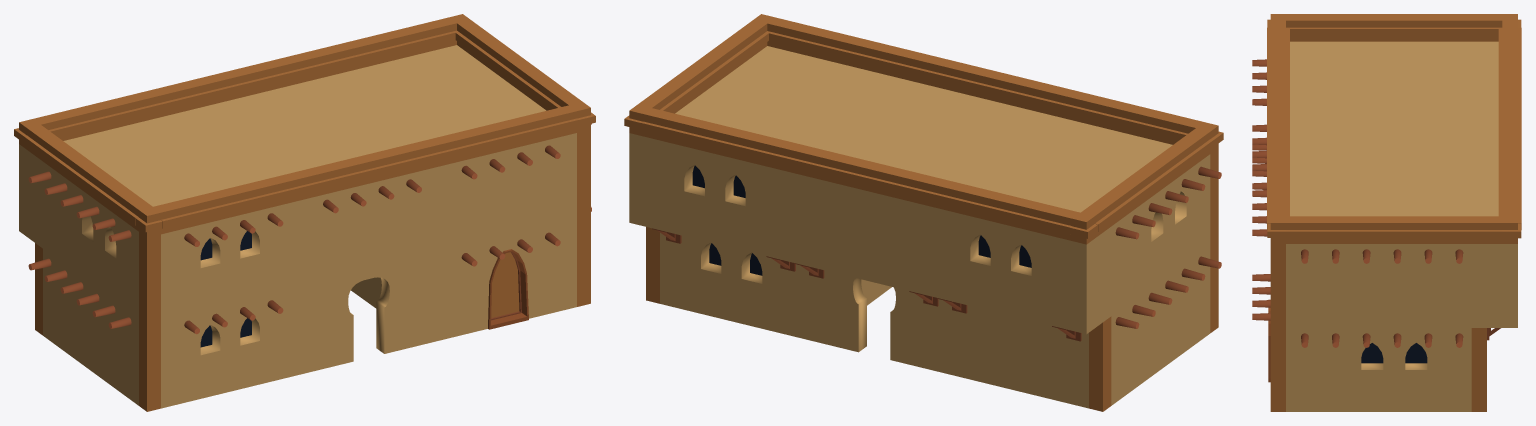
Rendered from Arab_mod_house1.fbx.
The picture shows the model from 3 angles, left to right: view 1: azimuth 30°, elevation 25°; view 2: azimuth 150°, elevation 25°; view 3: azimuth 270°, elevation 25°; orthographic projection. The views are drawn at different scales.
Visible parts, largest first — view 1: house; view 2: house; view 3: house.
Part boxes in pixels (x1,y1,x2,y2): house: (14,14,595,411); house: (624,14,1223,411); house: (1252,14,1521,411).
Size of the model in its own units: 1731 by 675 by 872.
Materials: 18 (17 with a texture image).
